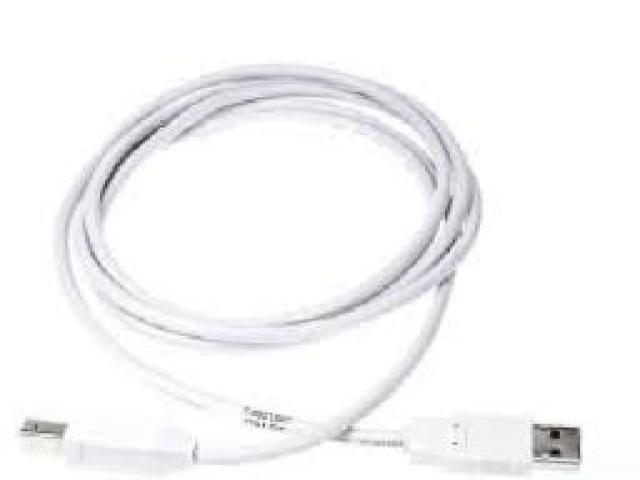wire: (7, 62, 585, 477)
